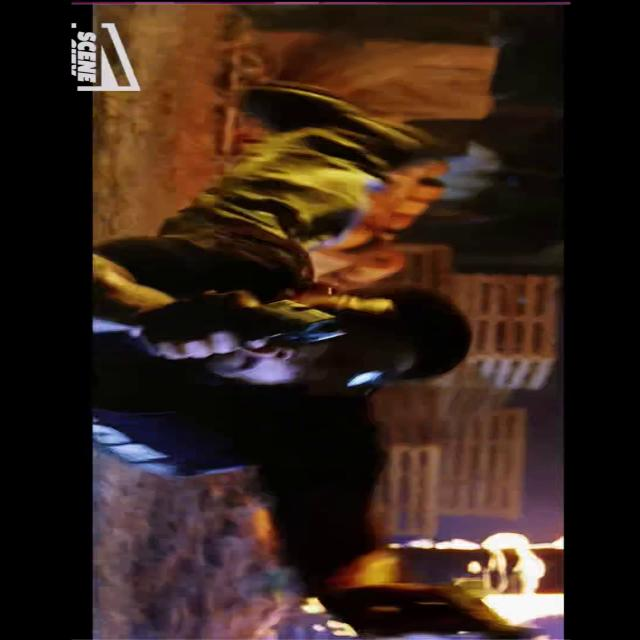weapons: (154, 291, 362, 368)
